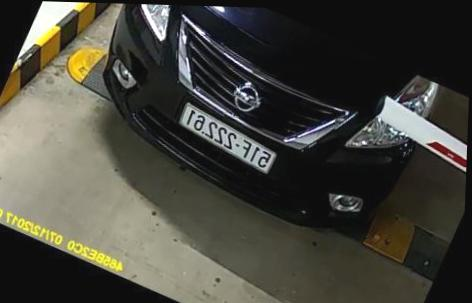License_Plate: (172, 104, 284, 173)
